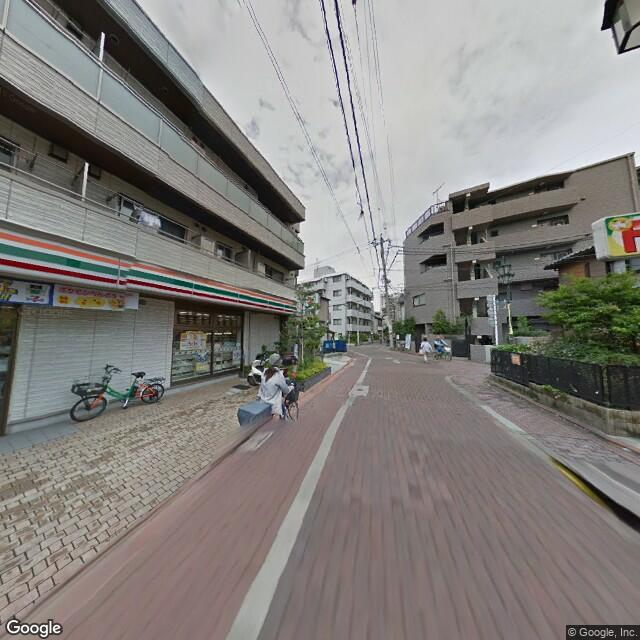7-eleven: (1, 219, 297, 325)
